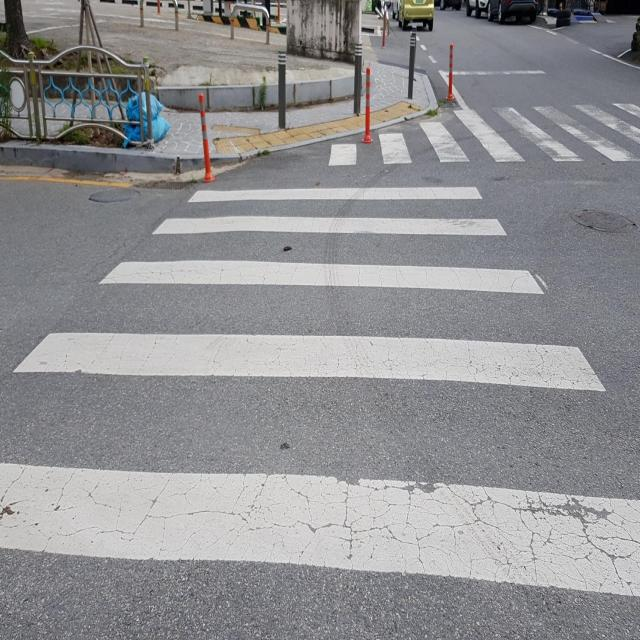횡단보도: (0, 190, 640, 600), (307, 87, 640, 162)
